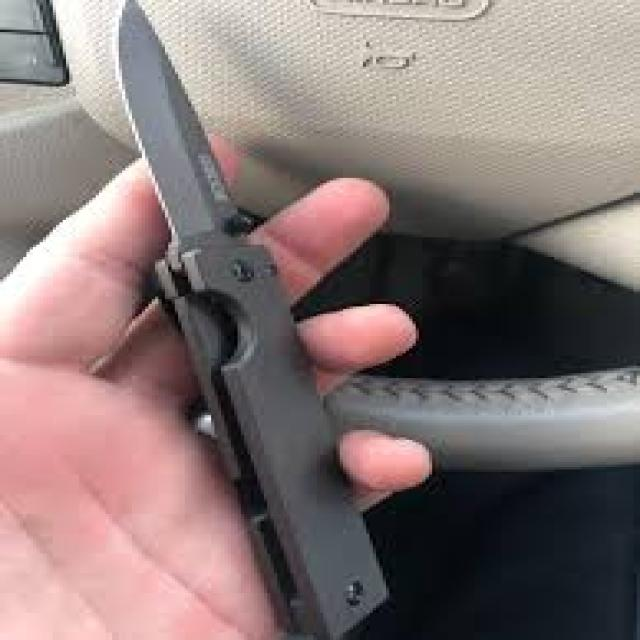knives: (52, 1, 444, 626)
